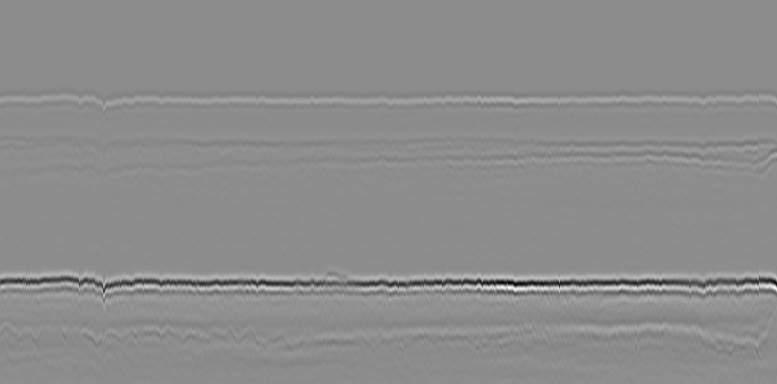fault: (89, 127, 117, 180), (90, 90, 115, 120)
